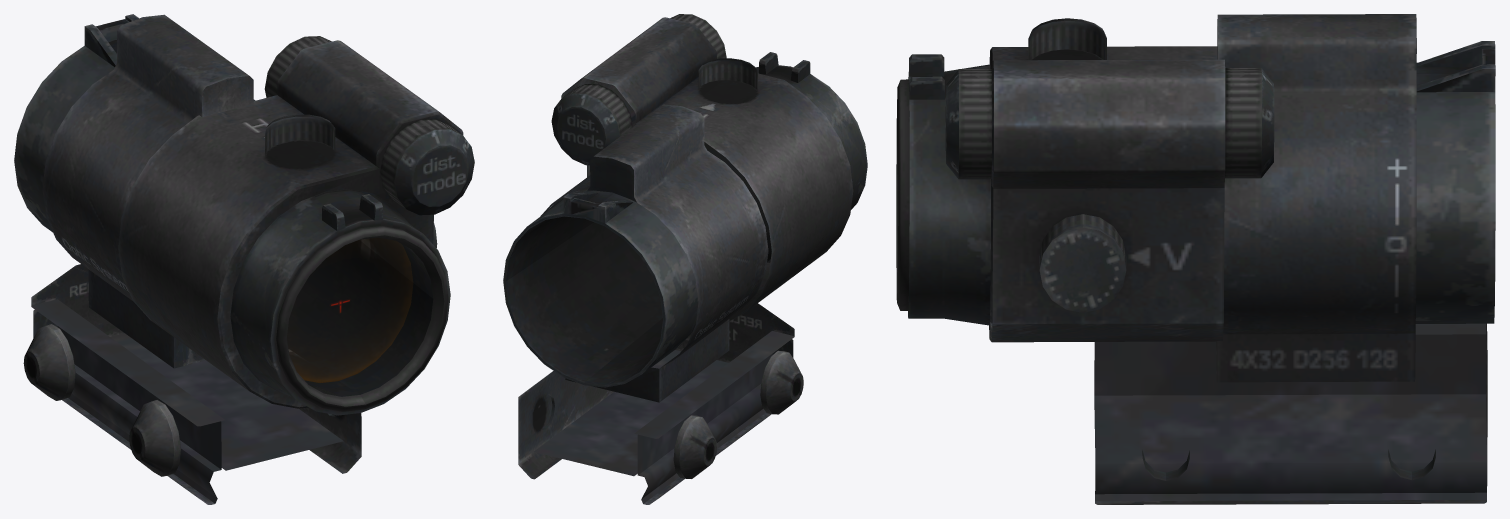
File: fixed_jth_scar_reflex_sight_attachment.glb
3 renders of one model, left to right at view 1: azimuth 30°, elevation 25°; view 2: azimuth 150°, elevation 25°; view 3: azimuth 270°, elevation 25°, orthographic. The views are drawn at different scales.
Visible parts, largest first — view 1: Object_4, Object_6; view 2: Object_4; view 3: Object_4.
Part boxes in pixels (x1,y1,x2,y2): Object_4: [14, 14, 474, 504]; Object_6: [293, 248, 412, 382]; Object_4: [503, 14, 867, 504]; Object_4: [896, 14, 1495, 504].
Bounding box in the file's own units: 0.0361 × 0.0515 × 0.062.
Materials: 2 (2 with a texture image).
